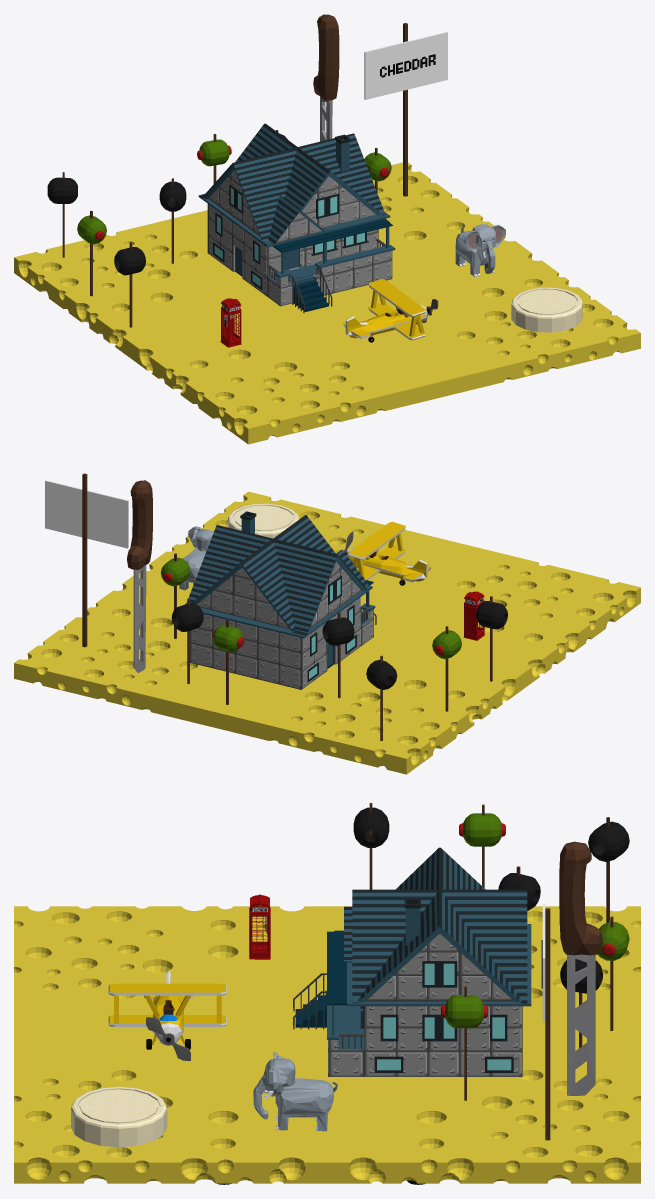
3 renders of one model, top to bottom at view 1: azimuth 30°, elevation 25°; view 2: azimuth 150°, elevation 25°; view 3: azimuth 270°, elevation 25°, orthographic. The views are drawn at different scales.
Visible parts, largest first — view 1: Cube.022, Cube.078, Cube.023, VEHICLES_AIRPLANE, Cylinder.016, Cube.024, ANIMAL_ELEFANTE, Sphere.017, OBJRANDOM_PHONEBOOTH, Sphere.016, Sphere.020, Sphere.018 (+2 smaller); view 2: Cube.022, Cube.078, Cube.023, Cube.024, VEHICLES_AIRPLANE, Cylinder.016, ANIMAL_ELEFANTE, Sphere.017, Sphere.020, Sphere.021, Sphere.016, Sphere.018 (+3 smaller); view 3: Cube.022, Cube.078, Cube.024, Cylinder.016, VEHICLES_AIRPLANE, ANIMAL_ELEFANTE, Cube.023, Sphere.019, Sphere.016, Sphere.018, Sphere.017, OBJRANDOM_PHONEBOOTH (+3 smaller).
Boxes of the visible parts, left/top/right/bottom form: Cube.022: left=14, top=162, right=640, bottom=444; Cube.078: left=198, top=123, right=395, bottom=313; Cube.023: left=364, top=23, right=447, bottom=196; VEHICLES_AIRPLANE: left=343, top=279, right=438, bottom=342; Cylinder.016: left=511, top=287, right=582, bottom=332; Cube.024: left=313, top=14, right=339, bottom=141; ANIMAL_ELEFANTE: left=455, top=224, right=505, bottom=276; Sphere.017: left=114, top=242, right=145, bottom=327; OBJRANDOM_PHONEBOOTH: left=220, top=298, right=241, bottom=347; Sphere.016: left=47, top=172, right=77, bottom=257; Sphere.020: left=159, top=178, right=186, bottom=263; Sphere.018: left=77, top=210, right=106, bottom=296; Cube.022: left=14, top=491, right=640, bottom=774; Cube.078: left=185, top=511, right=376, bottom=689; Cube.023: left=45, top=473, right=128, bottom=647; Cube.024: left=127, top=480, right=152, bottom=672; VEHICLES_AIRPLANE: left=343, top=521, right=430, bottom=585; Cylinder.016: left=228, top=503, right=298, bottom=538; ANIMAL_ELEFANTE: left=179, top=526, right=213, bottom=590; Sphere.017: left=476, top=596, right=507, bottom=681; Sphere.020: left=322, top=612, right=354, bottom=698; Sphere.021: left=171, top=598, right=203, bottom=683; Sphere.016: left=366, top=655, right=397, bottom=741; Sphere.018: left=432, top=626, right=461, bottom=711; Cube.022: left=14, top=906, right=640, bottom=1183; Cube.078: left=293, top=847, right=531, bottom=1076; Cube.024: left=559, top=841, right=602, bottom=1095; Cylinder.016: left=71, top=1086, right=167, bottom=1147; VEHICLES_AIRPLANE: left=108, top=970, right=226, bottom=1060; ANIMAL_ELEFANTE: left=253, top=1052, right=337, bottom=1131; Cube.023: left=541, top=904, right=550, bottom=1140; Sphere.019: left=441, top=986, right=487, bottom=1100; Sphere.016: left=588, top=817, right=629, bottom=922; Sphere.018: left=459, top=804, right=505, bottom=887; Sphere.017: left=353, top=803, right=389, bottom=889; OBJRANDOM_PHONEBOOTH: left=249, top=894, right=270, bottom=959.
Size of the model in its own units: 3917 by 1985 by 4000.
48 materials, 5 textured.
